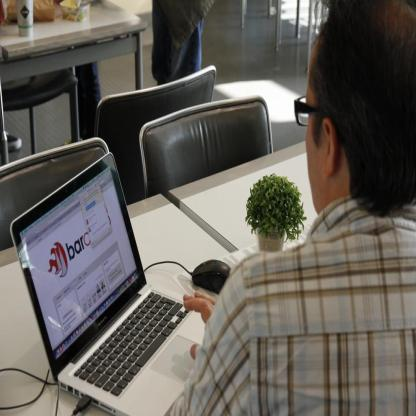board: (13, 149, 207, 414)
